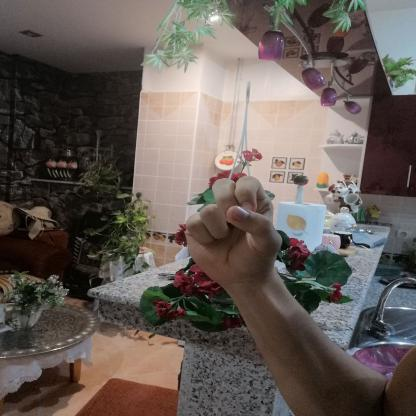QAAF: (167, 170, 305, 296)
